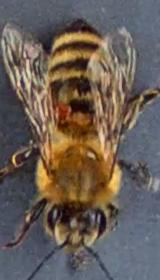varroa_mite: (43, 93, 73, 125)
